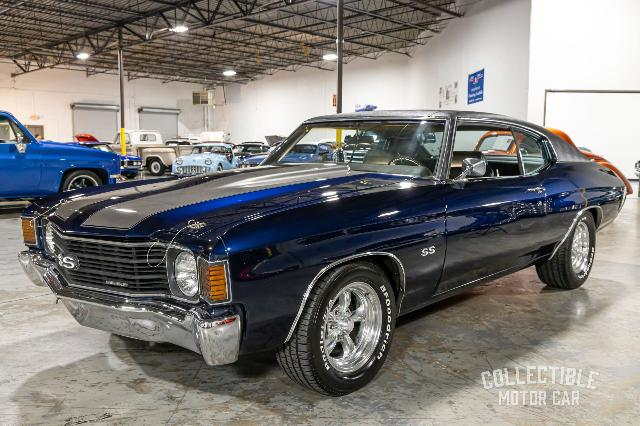chevelle-1972: (19, 110, 626, 396)
